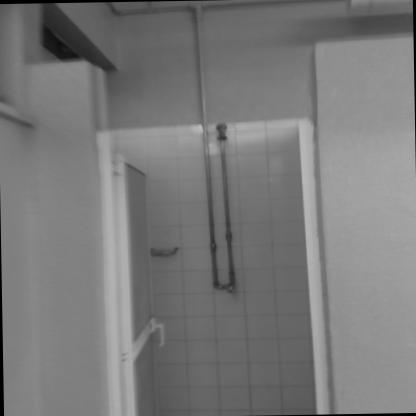open: (64, 105, 332, 416)
